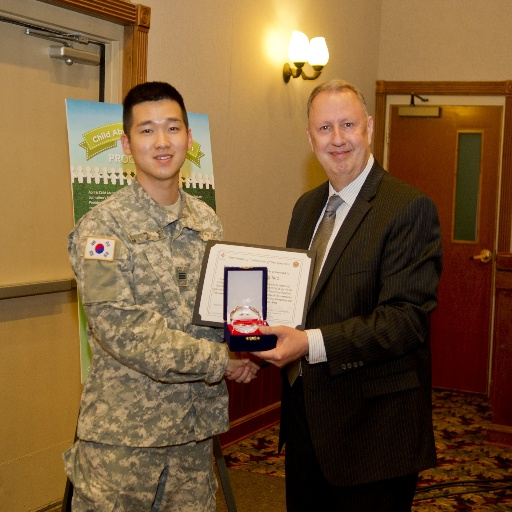hand: (247, 324, 307, 370), (226, 352, 266, 384), (226, 345, 261, 373)
